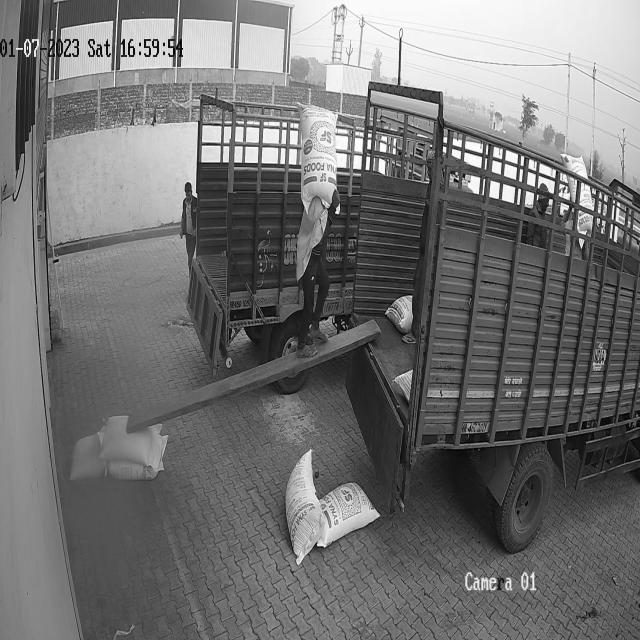sack: (285, 450, 324, 565), (298, 102, 337, 213), (318, 482, 380, 545), (98, 416, 162, 464), (106, 435, 166, 481), (69, 434, 106, 481)
